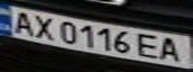0: (54, 18, 81, 46)
1: (93, 25, 115, 52), (75, 21, 96, 48)
6: (112, 28, 136, 56)
A: (6, 8, 39, 36), (157, 35, 187, 64)
E: (133, 32, 163, 61)
X: (27, 12, 60, 41)
